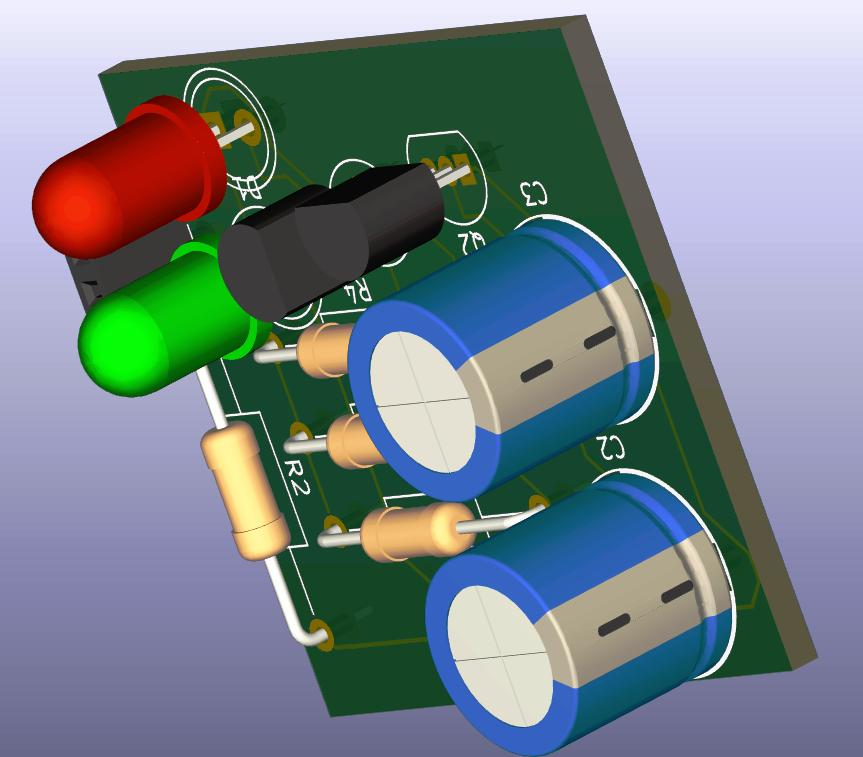capacitor: (347, 220, 675, 505), (432, 466, 732, 757)
green_led: (69, 244, 272, 400)
red_led: (26, 90, 241, 256)
resistor: (200, 407, 298, 566), (341, 502, 485, 563)
transistor: (277, 161, 453, 307), (218, 180, 394, 326)
